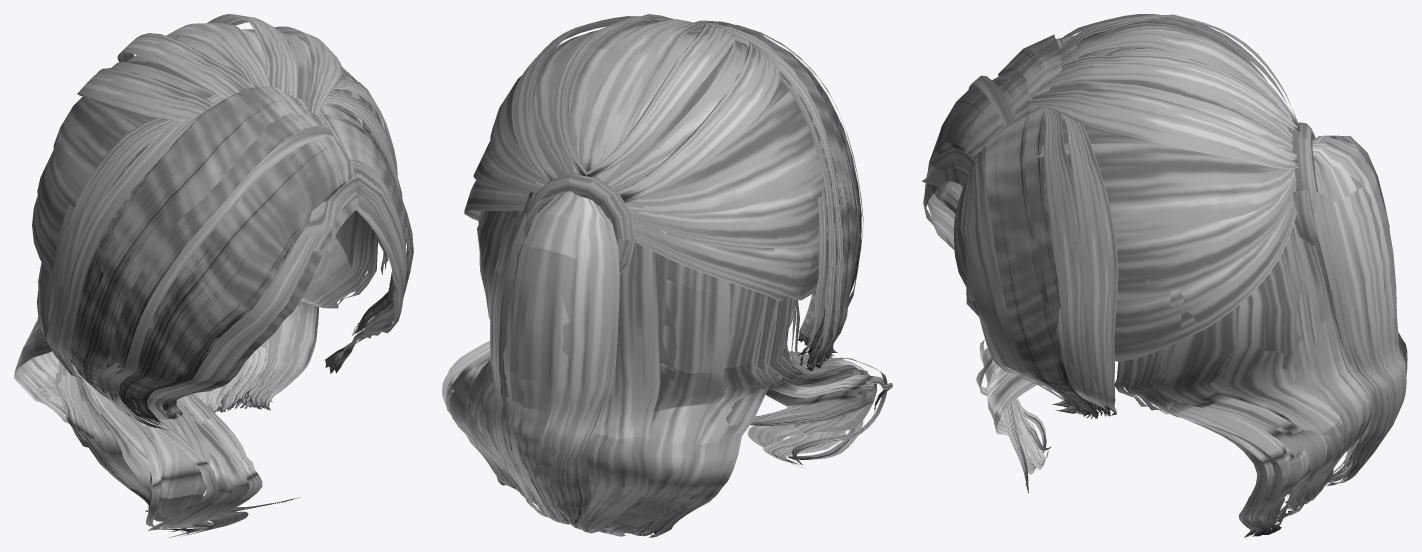
Rendered from daz_hair_halfup_princess.glb.
3 views of the same model, side by side, from view 1: azimuth 30°, elevation 25°; view 2: azimuth 150°, elevation 25°; view 3: azimuth 270°, elevation 25° (orthographic). The views are drawn at different scales.
Parts seen in each view (by area): view 1: daz_hair_halfup_princess; view 2: daz_hair_halfup_princess; view 3: daz_hair_halfup_princess.
Boxes of the visible parts, <box> form: daz_hair_halfup_princess: <box>14,14,413,537</box>; daz_hair_halfup_princess: <box>442,14,892,537</box>; daz_hair_halfup_princess: <box>922,14,1407,537</box>.
Size of the model in its own units: 0.203 by 0.2553 by 0.2408.
1 material, 1 textured.
